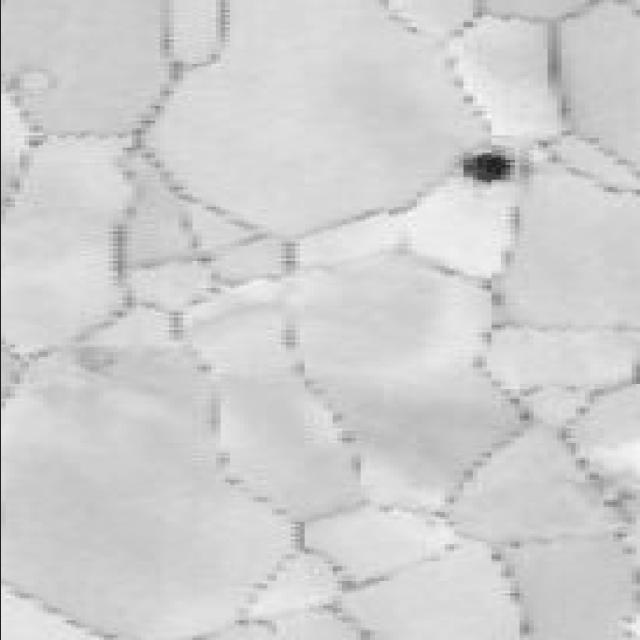good_void: (453, 148, 519, 187)
